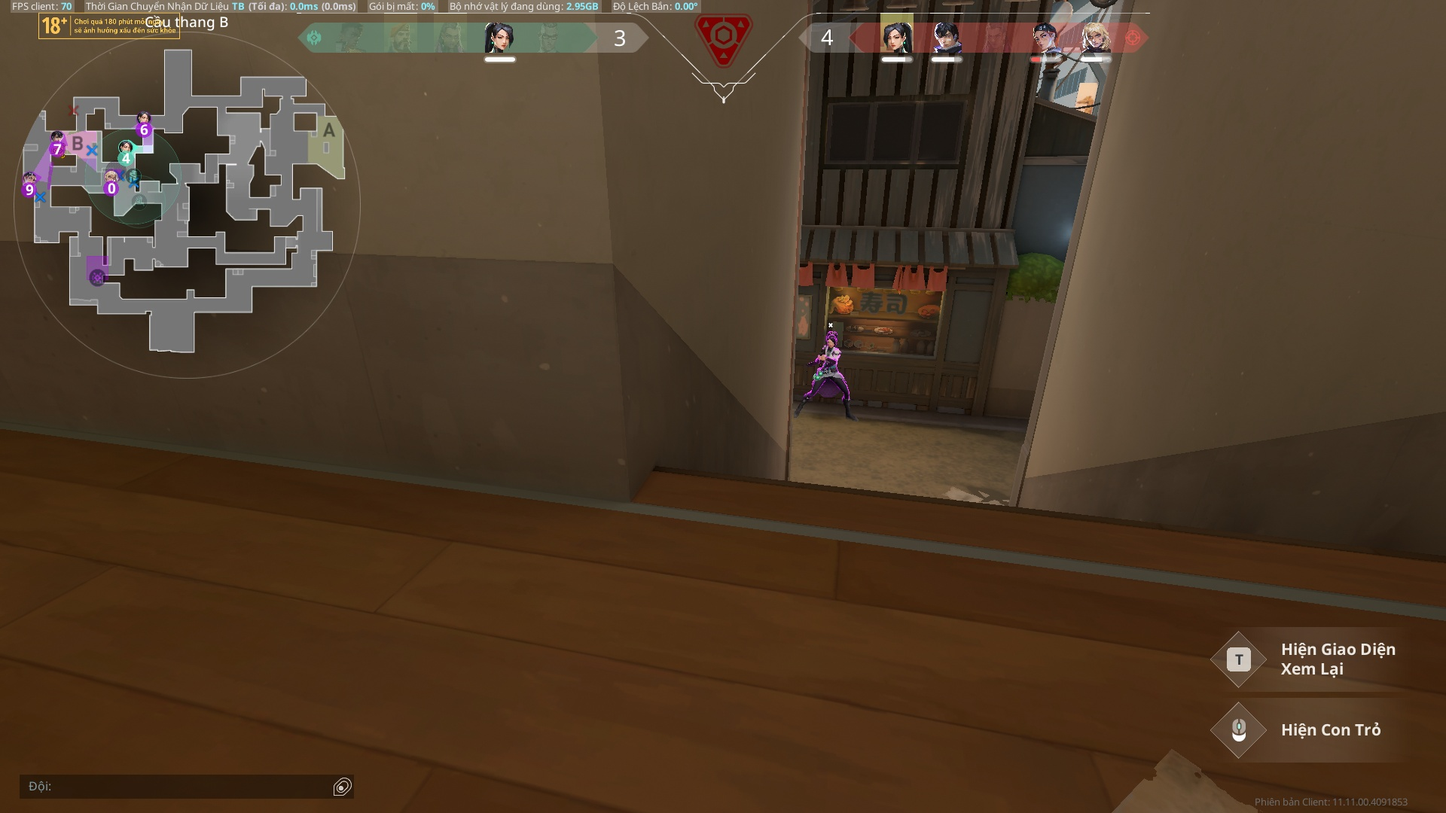body: (821, 346, 841, 370)
head: (825, 333, 835, 348)
